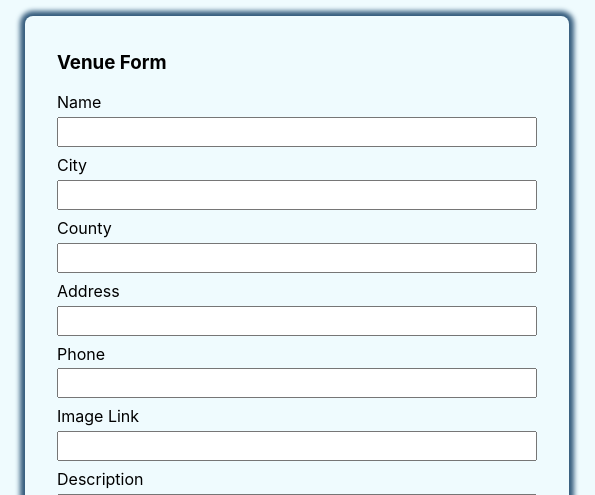
Test: <CreateVenue /> › displays error message when special character is entered in name field
Step 1. Type "djd8327b" into the field with test id "venue-name-input" → {"x": 297, "y": 132}, box [57,117,537,147]
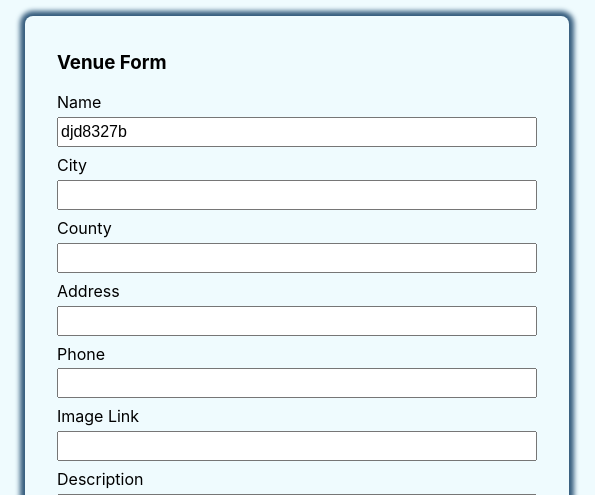
Step 2. Leave the field with test id "venue-name-input", box [57,117,537,147]
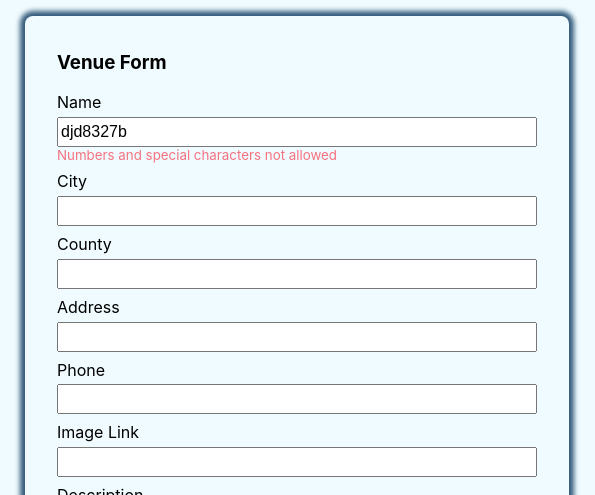
expect the text with test id "venue-name-input-error" reads "Numbers and special characters not allowed": met, box [57,147,337,163]
